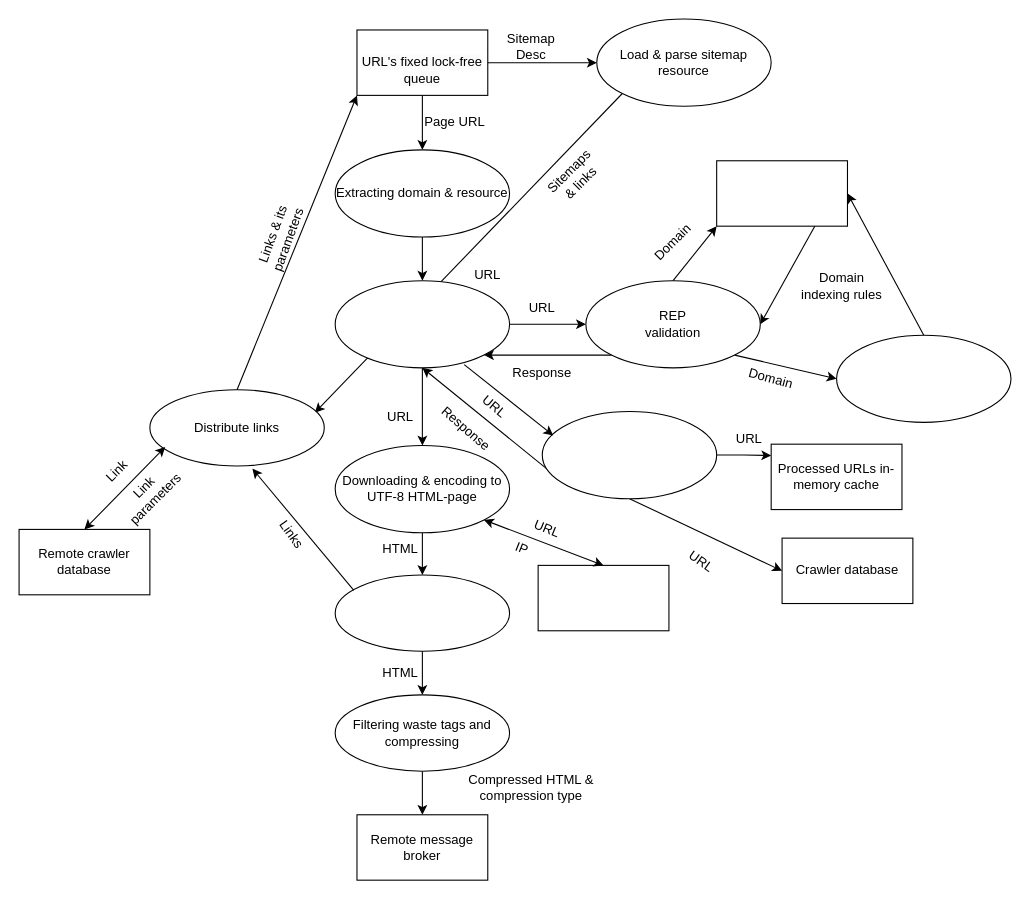
Some shapes in this 1030 by 899 pixel diagram are drawn without their labels. The shapes that lost their labels are listed below. From the top down, each one's centre as x and y in pixels, then its label:
At pixel 781 193: "REP In-Memory Cache".
At pixel 422 324: "URL validation".
At pixel 923 378: "REP loading".
At pixel 629 454: "Uniqueness check".
At pixel 422 612: "Fetching links".
At pixel 603 597: "DNS in-memory cache".
